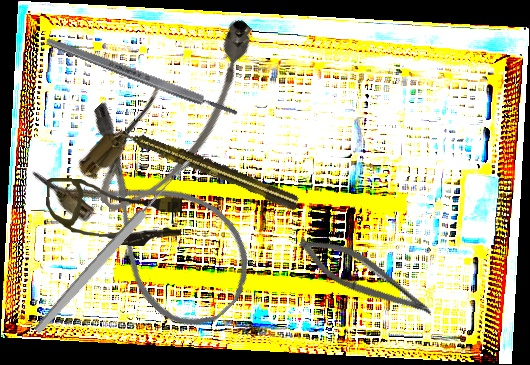Cannula: (26, 95, 274, 346), (70, 6, 286, 226), (44, 177, 184, 248)
Handpiece: (113, 122, 301, 213)
Micro Scissor: (290, 227, 443, 326)
Scalpel Handle: (43, 34, 241, 120)
Surgical Spoon: (31, 157, 195, 336)
